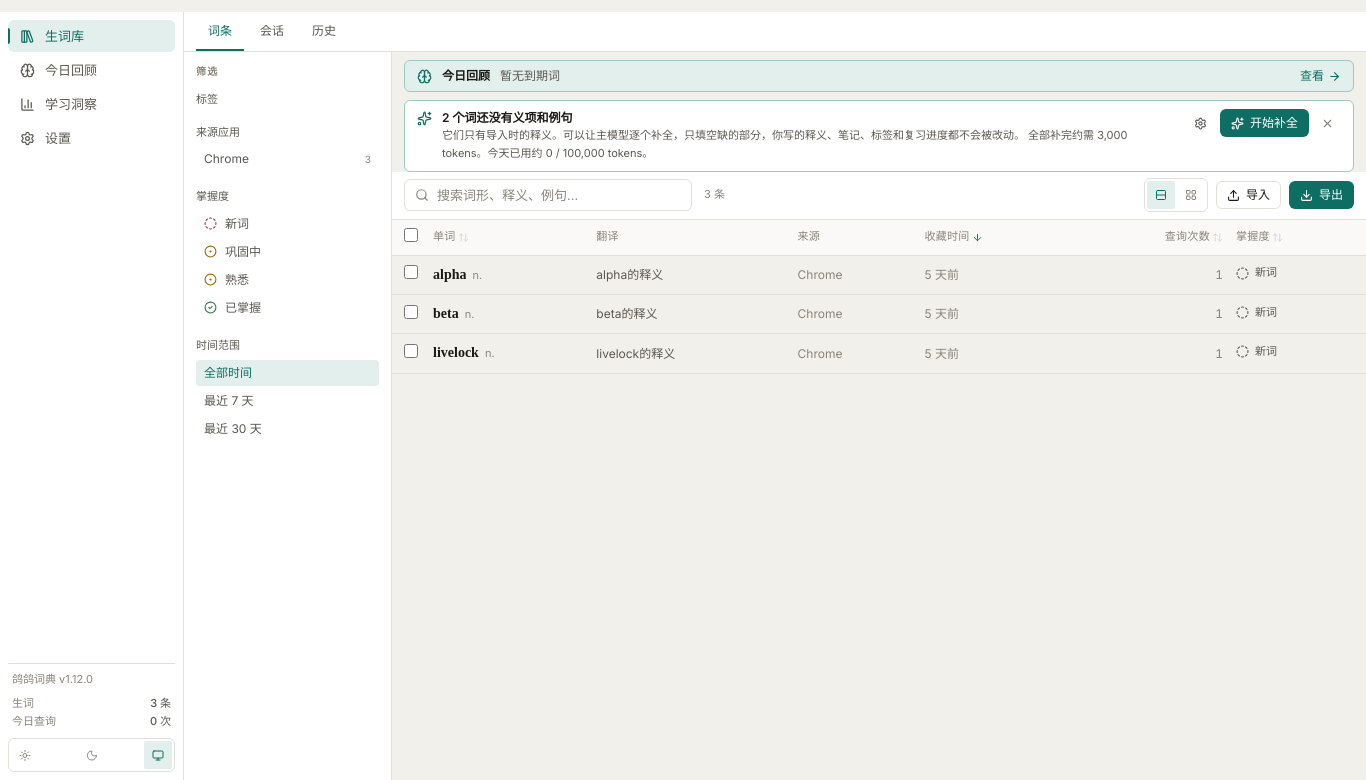
Test case: the word list in the library › narrows to the words that the typed text is found in, an example included
This screenshot has width=1366, height=780.
Expected: the checkbox named "选择 alpha" is shown, x1=404 y1=265 x2=418 y2=279
Expected: the text "3 条" below "今天已用约 0 / 100,000 tokens" is shown, x1=704 y1=187 x2=725 y2=201
In the search field: (559, 195) x1=437 y1=185 x2=681 y2=205, type "spinning"
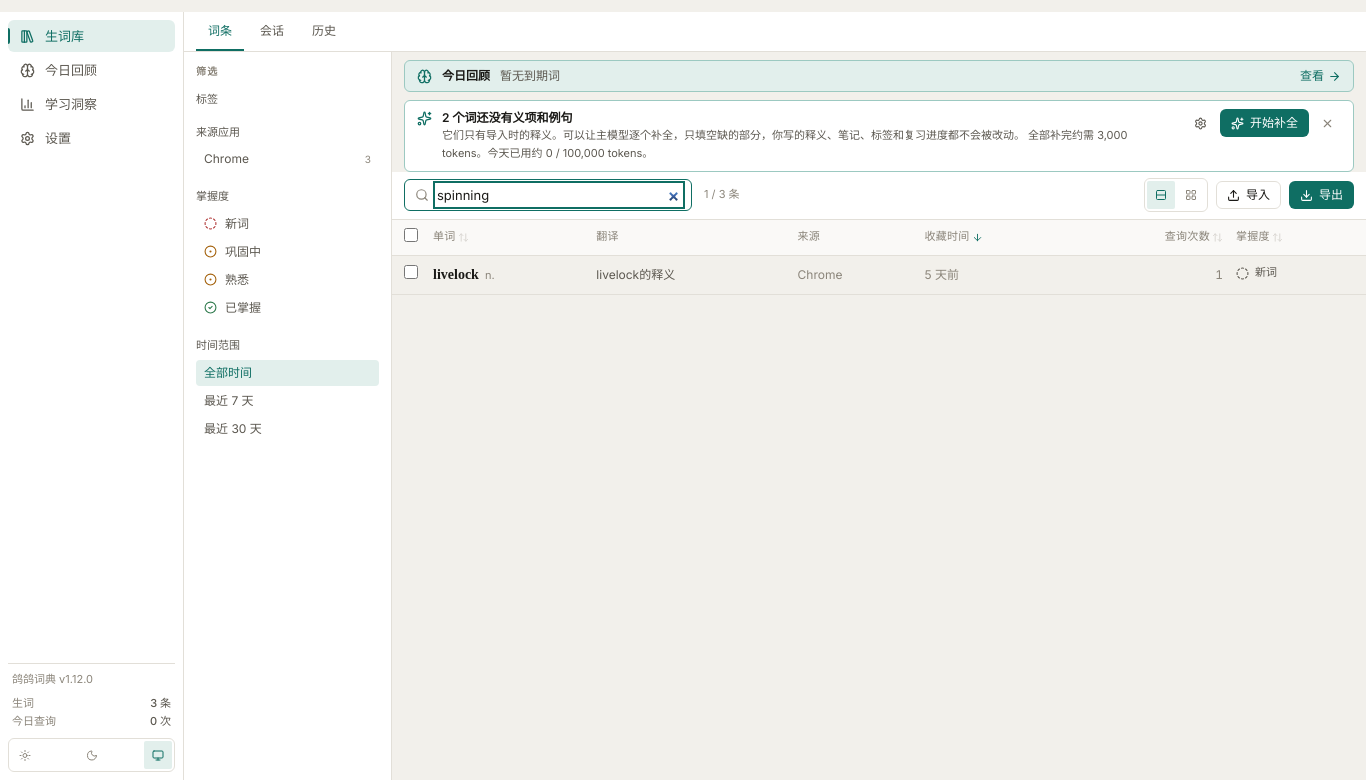
Expected: the checkbox named "选择 livelock" is shown, x1=404 y1=265 x2=418 y2=279
Now the text "1 / 3 条" is shown, box x1=704 y1=187 x2=740 y2=203
